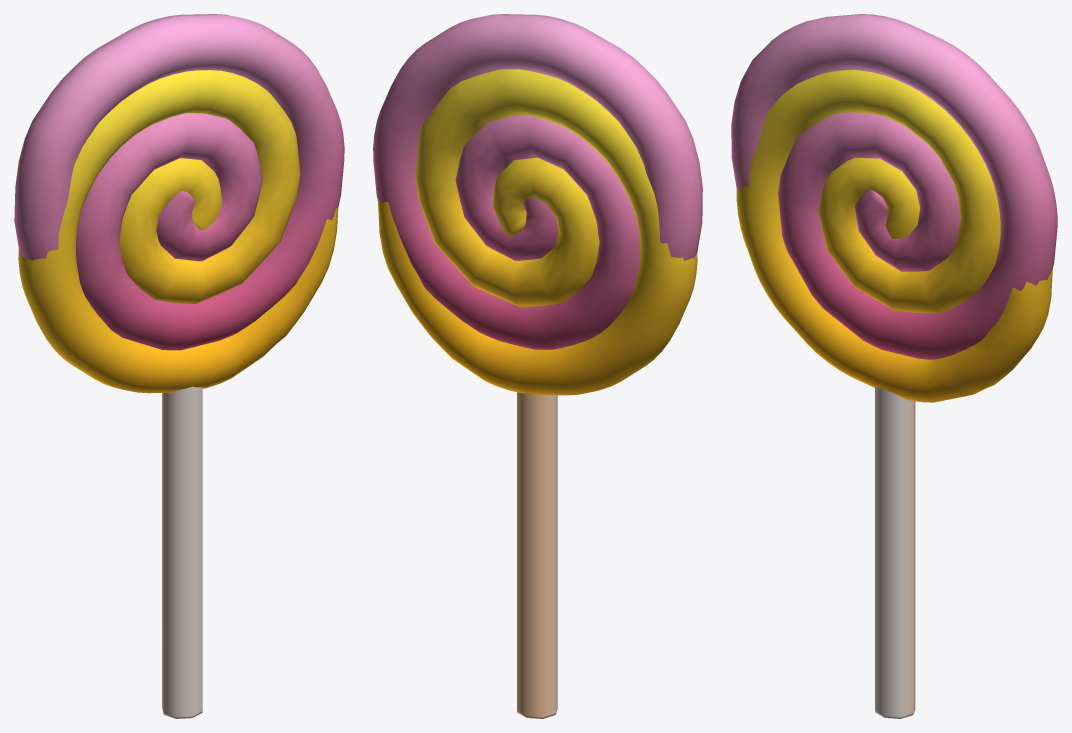
Rendered from Circle Candy.fbx.
3 renders of one model, left to right at view 1: azimuth 30°, elevation 25°; view 2: azimuth 150°, elevation 25°; view 3: azimuth 330°, elevation 25°, orthographic.
Parts seen in each view (by area): view 1: Circle Candy; view 2: Circle Candy; view 3: Circle Candy.
Part boxes in pixels (<box>): Circle Candy: <box>14,14,344,718</box>; Circle Candy: <box>373,14,702,718</box>; Circle Candy: <box>731,14,1057,718</box>.
Size of the model in its own units: 11.88 by 24.47 by 1.92.
